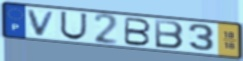2: (92, 12, 120, 46)
3: (186, 23, 217, 53)
B: (153, 19, 185, 51), (123, 16, 153, 47)
U: (59, 10, 88, 41)
V: (26, 9, 58, 37)
